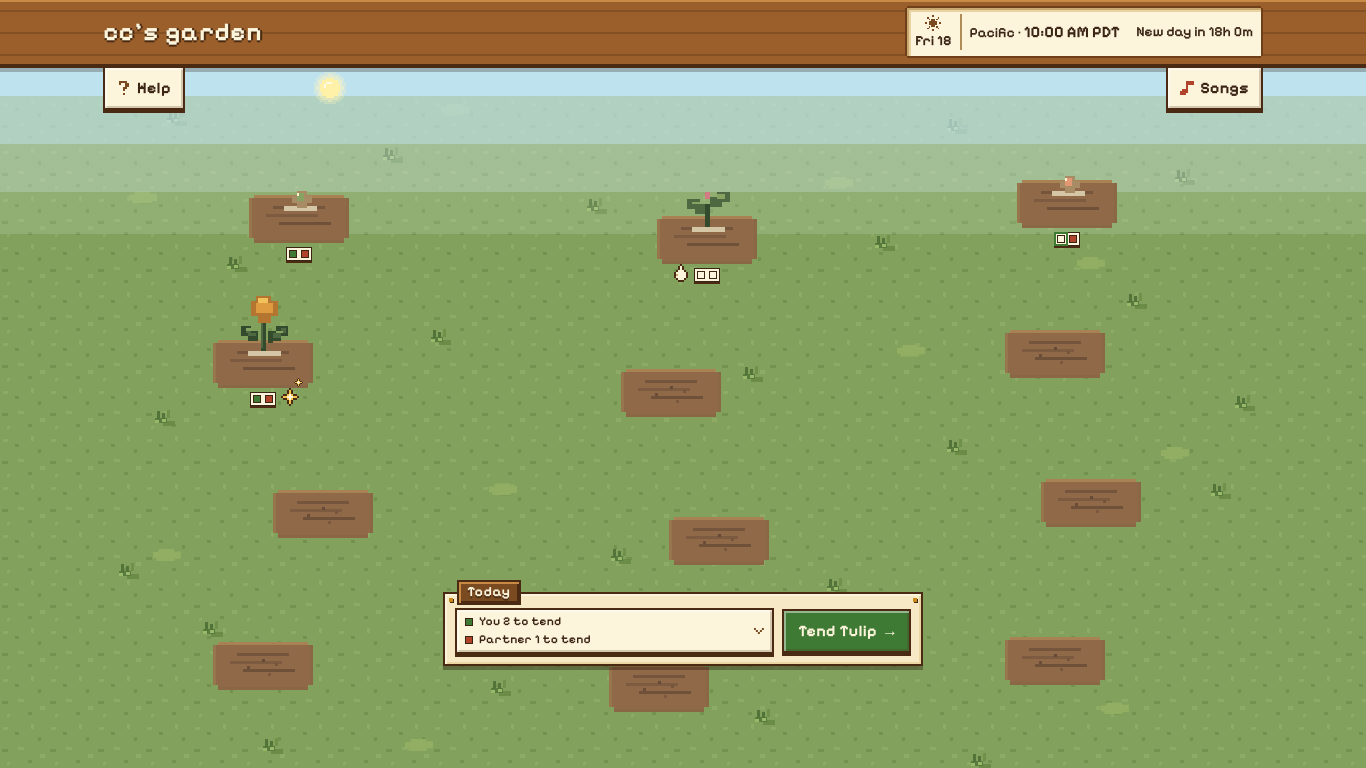
lists the flowers still due, opens one, and returns focus to its row
Step 1. Click the button "You 2 to tend Partner 1 to tend" → (532, 621), box 455,608 -> 774,654
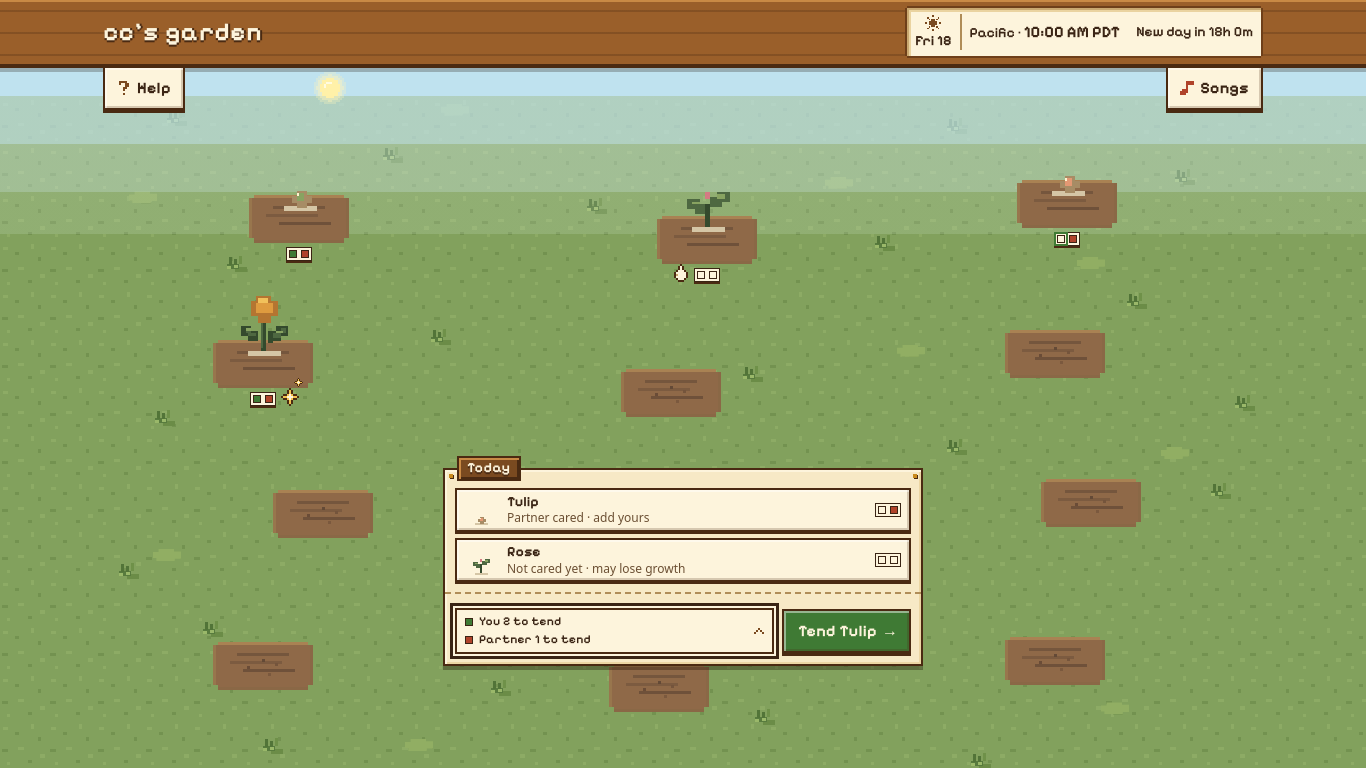
Now the button "You 2 to tend Partner 1 to tend" is expanded, box 455,608 -> 774,654
Now the buttons read "Tulip Partner cared · add yours, spot 3", "Rose Not cared yet · may lose growth, spot 2", in this order
Step 2. Click the button "Rose Not cared yet · may lose growth" → (683, 560), box 455,538 -> 911,582
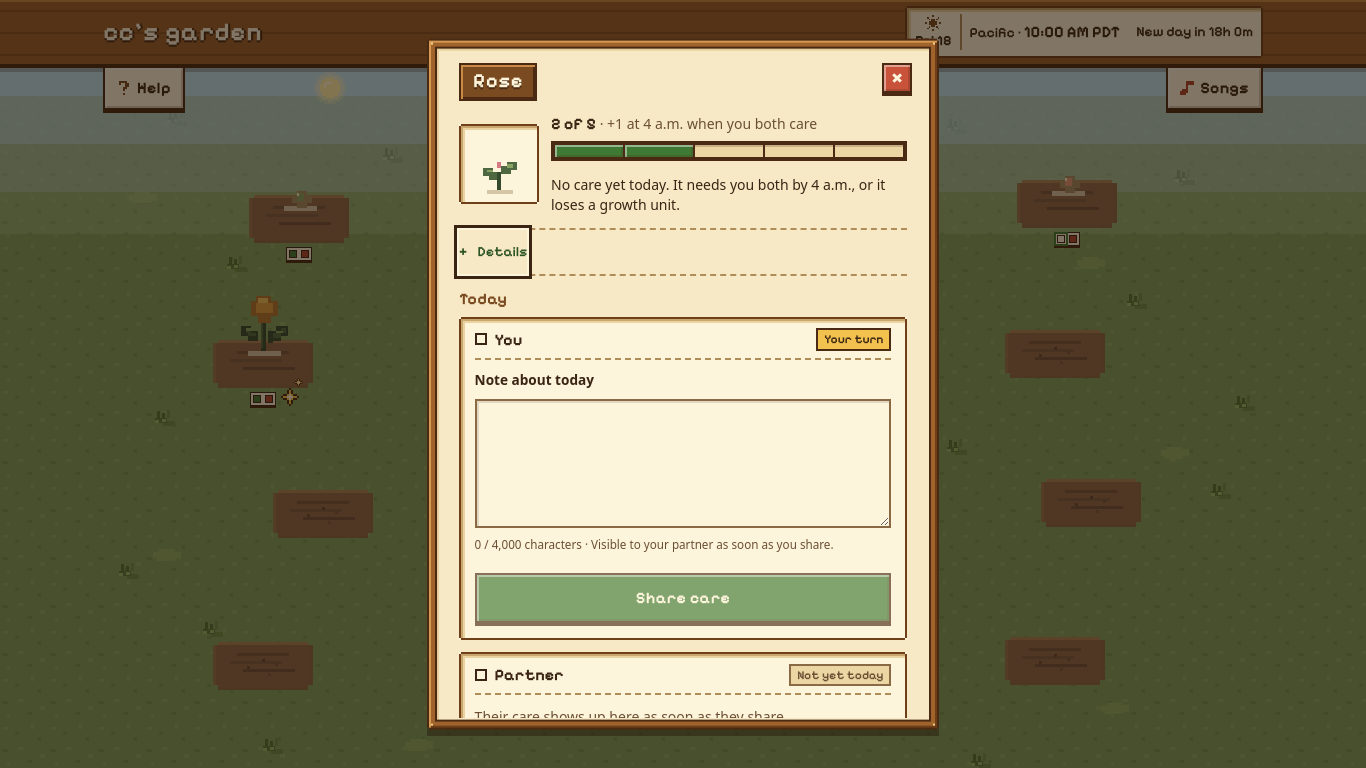
Now the text "needs you both by 4 a.m., or it loses a growth unit" is shown, box 551,175 -> 885,213
Step 3. Press Escape
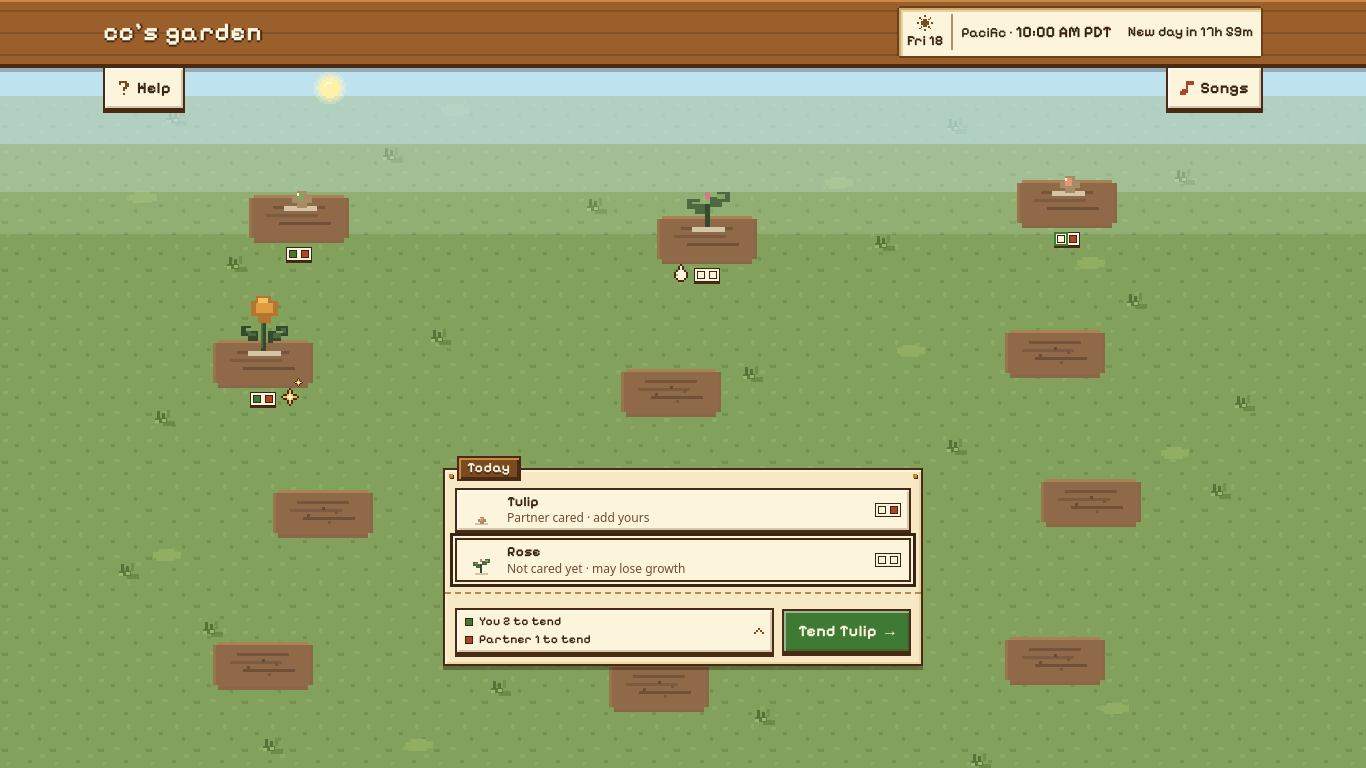
Step 4. Press Escape
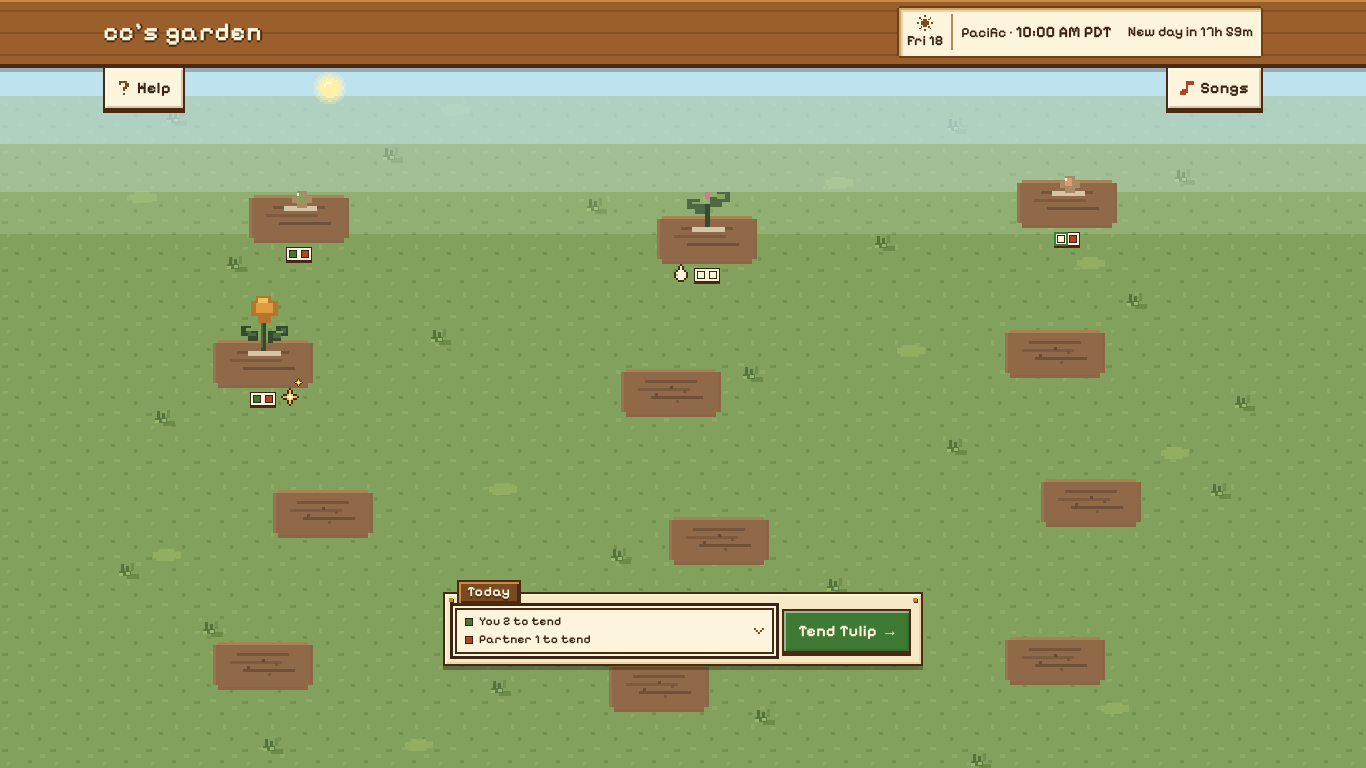
Now the button "You 2 to tend Partner 1 to tend" is collapsed, box 455,608 -> 774,654
Now the list is gone
